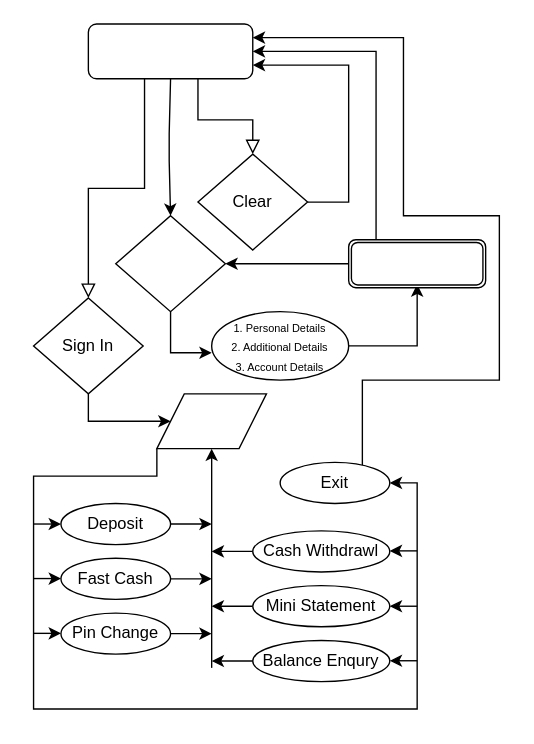
This 534x744 diagram has some shape labels left out. The shapes that lost their labels are listed below. From the top down, each one's centre as x and y in pixels, then its label:
the point at 170,51: ATM BANK
the point at 169,263: Sign Up
the point at 416,263: Cancel / Submit
the point at 210,421: HOME
